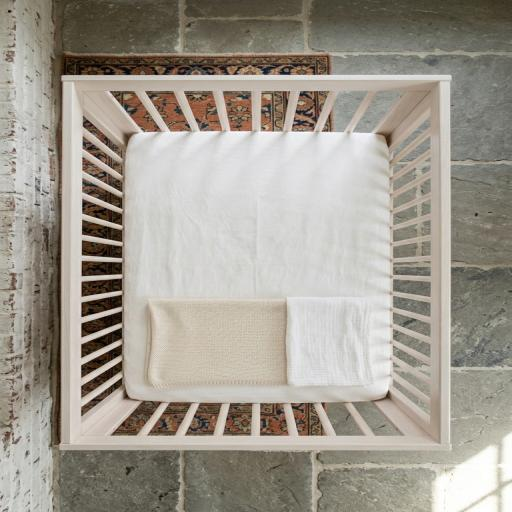crib: (112, 91, 400, 436)
